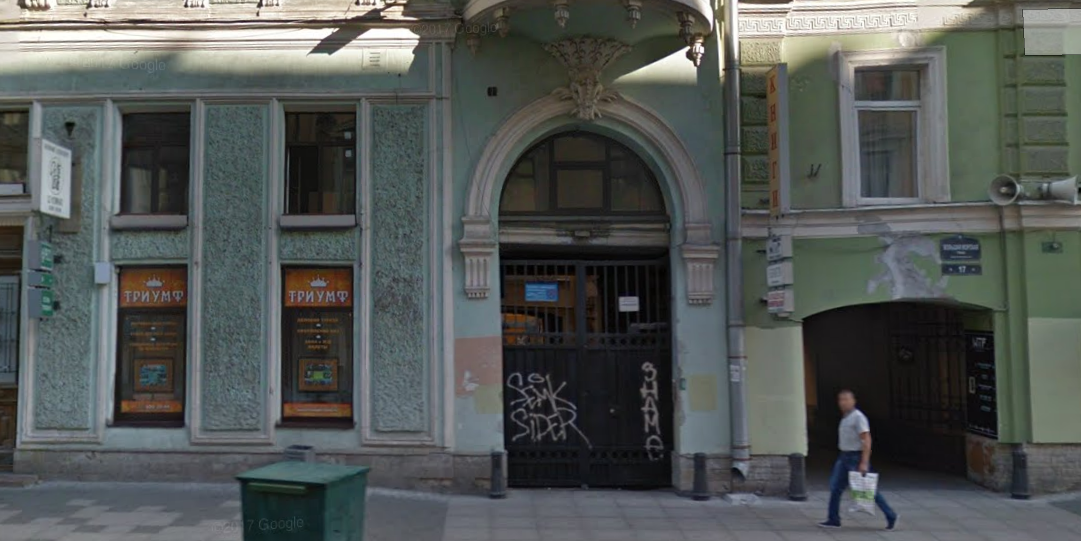arch: (492, 237, 683, 488), (796, 294, 1005, 504)
cantilever: (749, 61, 789, 227), (33, 136, 85, 221), (27, 235, 70, 326), (752, 233, 795, 321)
window: (280, 260, 353, 425), (843, 58, 929, 195), (113, 263, 183, 428), (282, 104, 359, 216), (125, 110, 185, 214)
